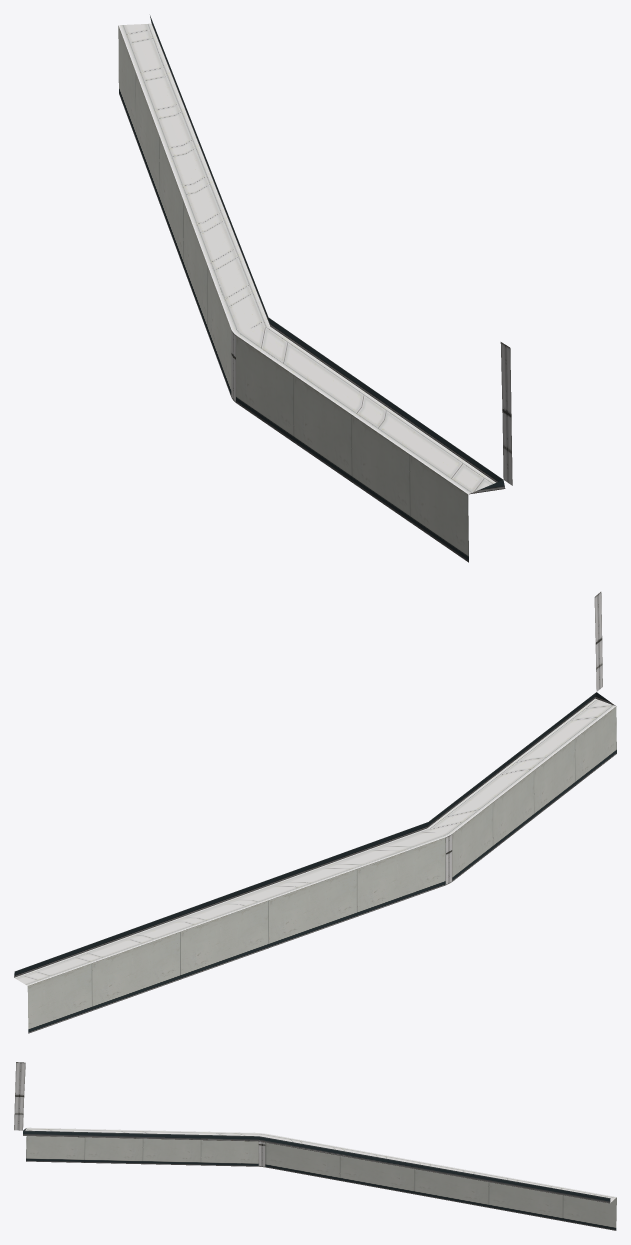
File: STA20_OfficeExtLowB01.FBX
3 renders of one model, top to bottom at view 1: azimuth 30°, elevation 25°; view 2: azimuth 150°, elevation 25°; view 3: azimuth 270°, elevation 25°, orthographic. The views are drawn at different scales.
Parts seen in each view (by area): view 1: STA20_OfficeExtLowB01; view 2: STA20_OfficeExtLowB01; view 3: STA20_OfficeExtLowB01.
Part boxes in pixels (left/top/right/bottom): STA20_OfficeExtLowB01: left=118, top=15, right=512, bottom=562; STA20_OfficeExtLowB01: left=14, top=592, right=616, bottom=1033; STA20_OfficeExtLowB01: left=14, top=1062, right=616, bottom=1230.
Size of the model in its own units: 13.57 by 11.46 by 53.06.
